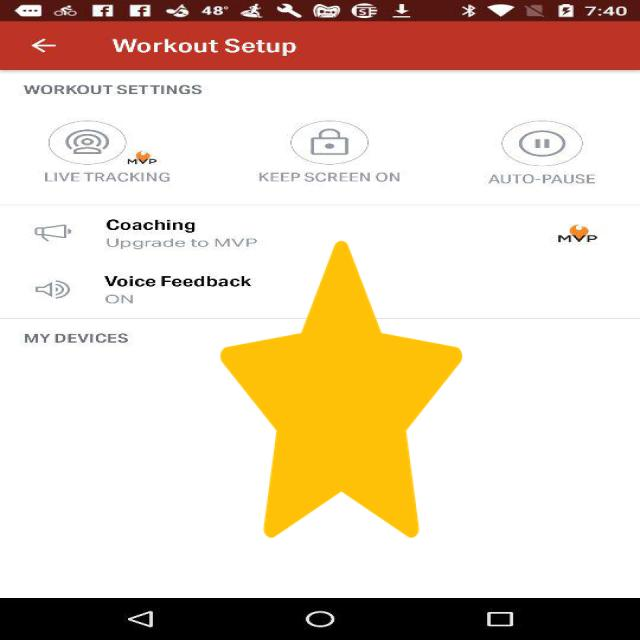forced continuity: (220, 241, 462, 538)
